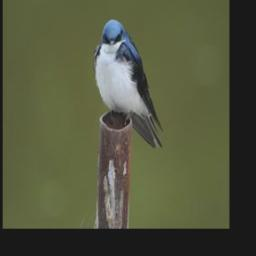Swallow: (93, 17, 165, 150)
